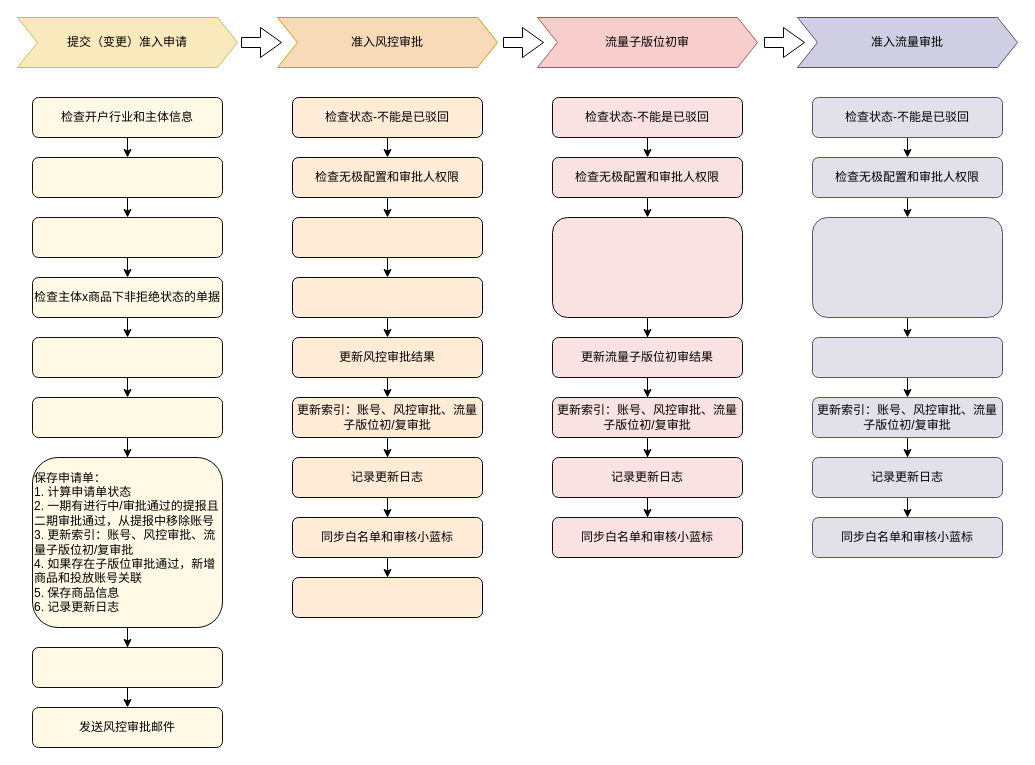
Image size: 1035x765. Some labels were removed from this diagram. Each missing label, with the centre of its shape:
从 CS 获取最新商品资质: (x=127, y=237)
初始化风控和流量子版位审批信息: (x=127, y=417)
发送流量子版位审批邮件: (x=387, y=597)
处理流量子版位审批结果: (x=387, y=297)
外部系统同步：授权资质给同主体、同步白名单/商品/审核: (x=127, y=667)
当前和审批结果均为驳回，不处理: (x=387, y=237)
更新申请单状态: (x=907, y=357)
检查投放账号: (x=127, y=357)
检查投放账号拥有药品库权限: (x=127, y=177)
检查更新子版位审批状态 ，且复审通过： 1. 风控未通过，返回错误 2. 流量子版位初审未通过，错误: (x=907, y=267)
检查更新子版位审批状态： 1. 初审驳回，清空复审信息 2. 初审通过，初始化复审信息: (x=647, y=267)
